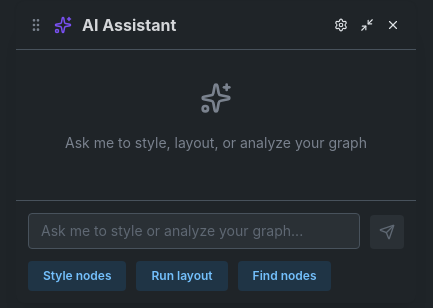
it: AiChatDialog › message submission › displays user message after submission
The width and height of the screenshot is (433, 308).
Type "Make nodes blue" into the text box with placeholder "Ask me to style or analyze your graph..." at (194, 231), box [28,213,360,249]
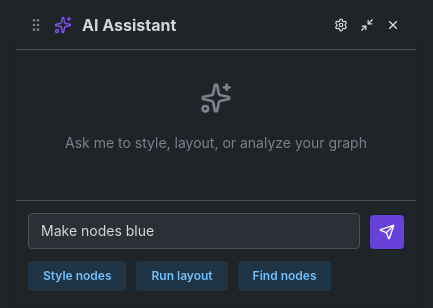
Click the button named "send" at (387, 232), box [370,215,404,249]
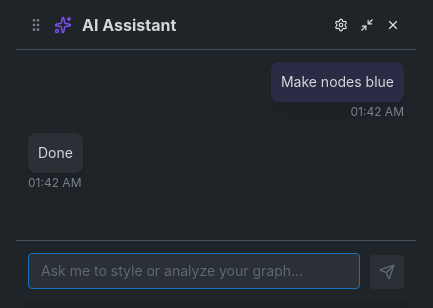
Now the text "Make nodes blue" is shown, box [281,72,394,92]
